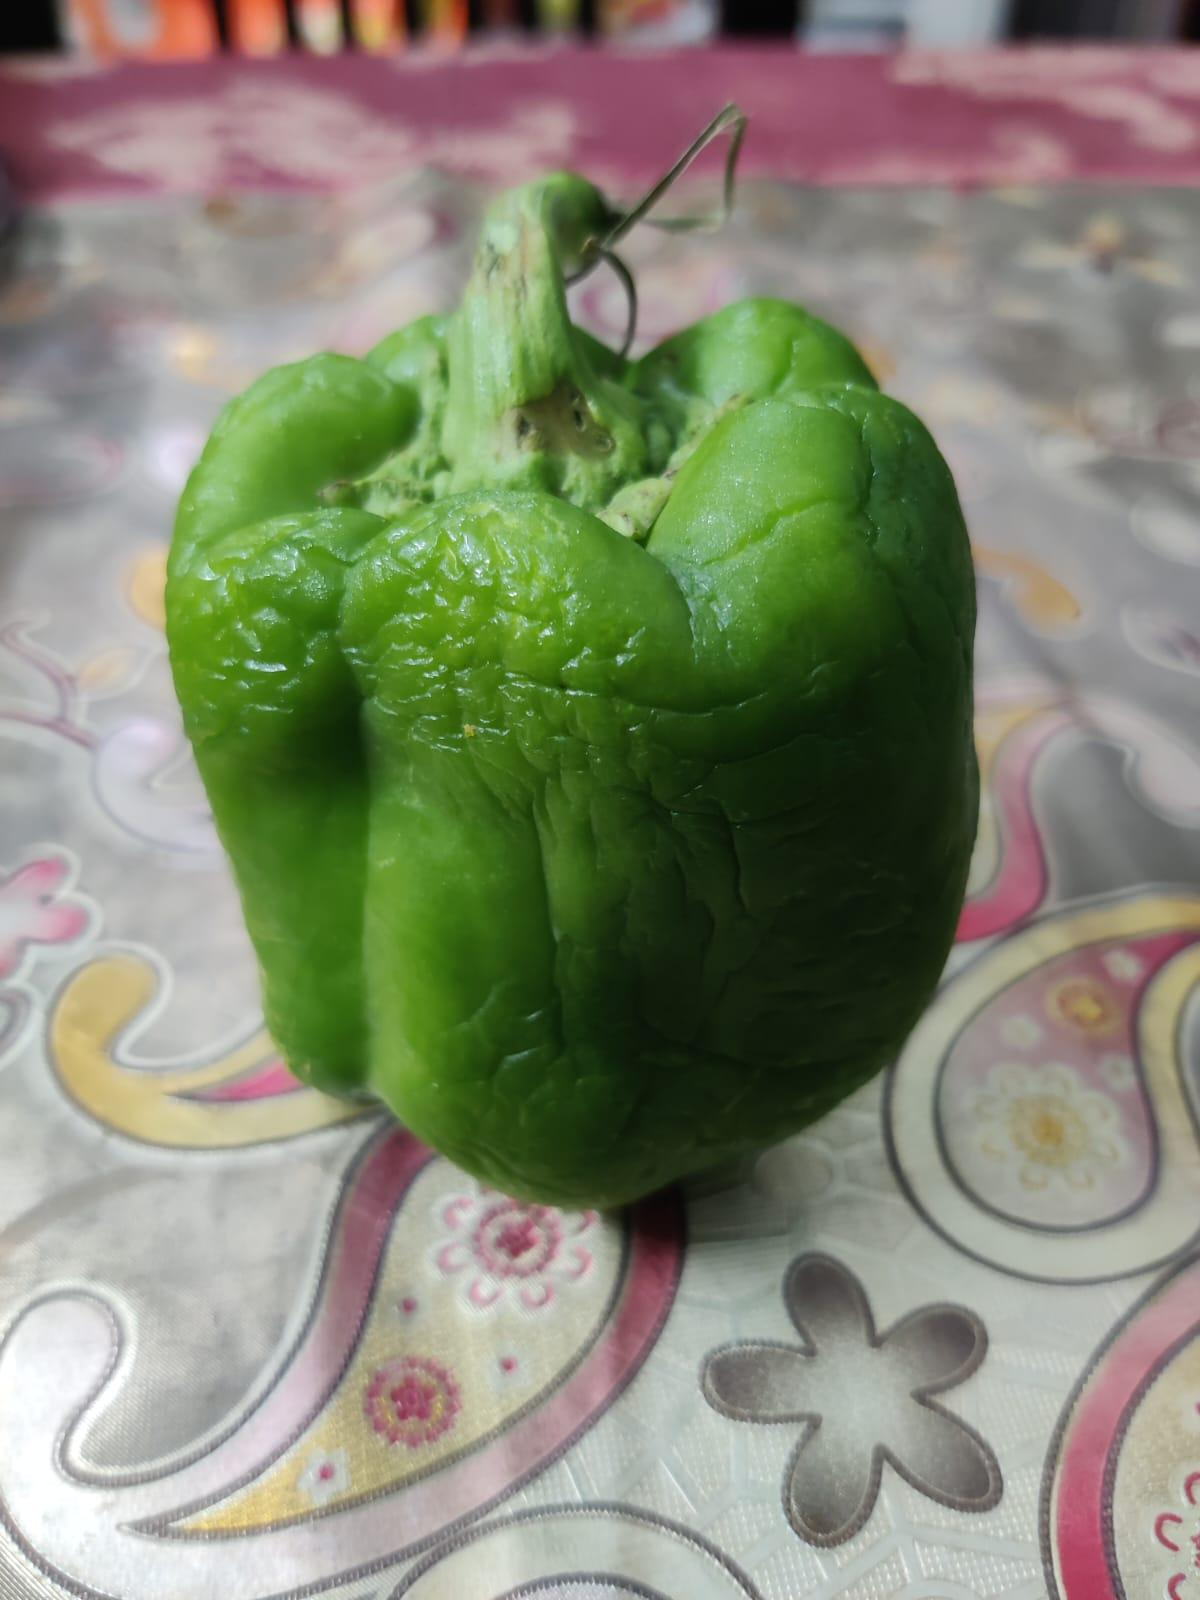non-mango: (165, 136, 983, 1191)
